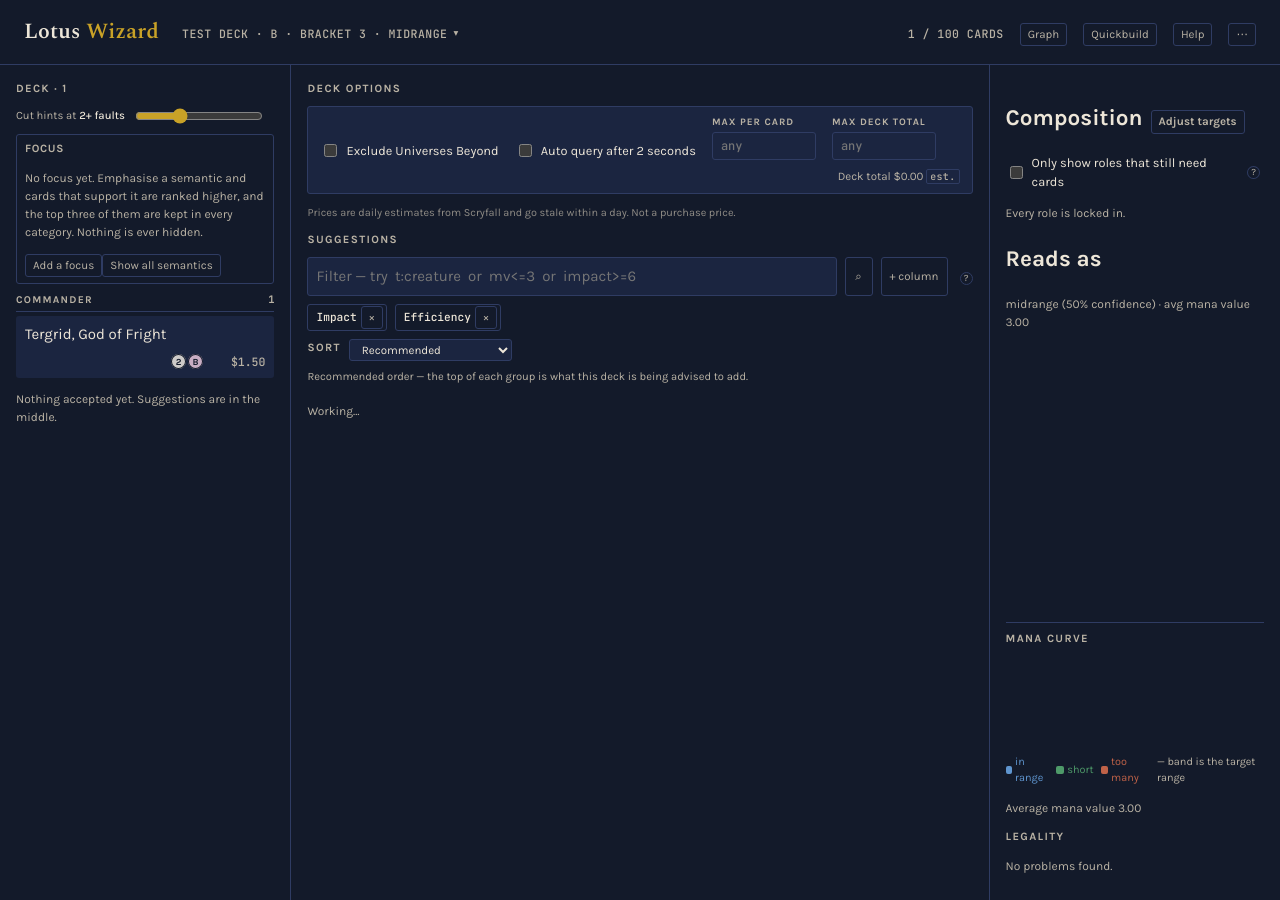
Test case: the semantics nothing in your colours supports › collects them into one category, whichever family each came from
Expected: the button "Tergrid, God of Fright" is shown, [25,323,266,345]
Click the button "Show all semantics": (162,266) [102,254,221,277]
(page scrolled)
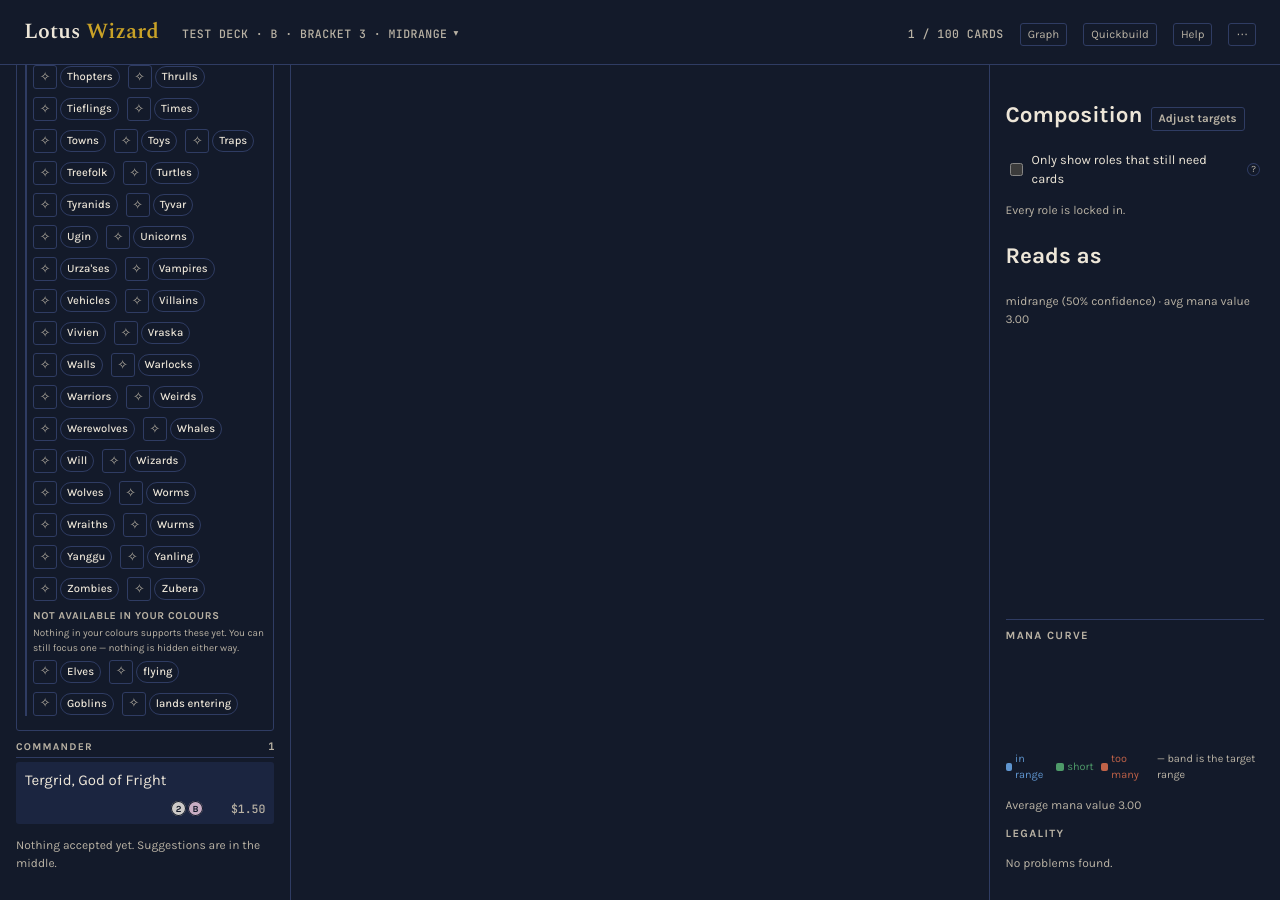
Expected: the button named "Emphasise Elves" is shown, [33,660,57,684]
Expected: the button named "Emphasise flying" is shown, [109,660,133,684]
Expected: the button named "Emphasise lands entering" is shown, [122,692,146,716]
